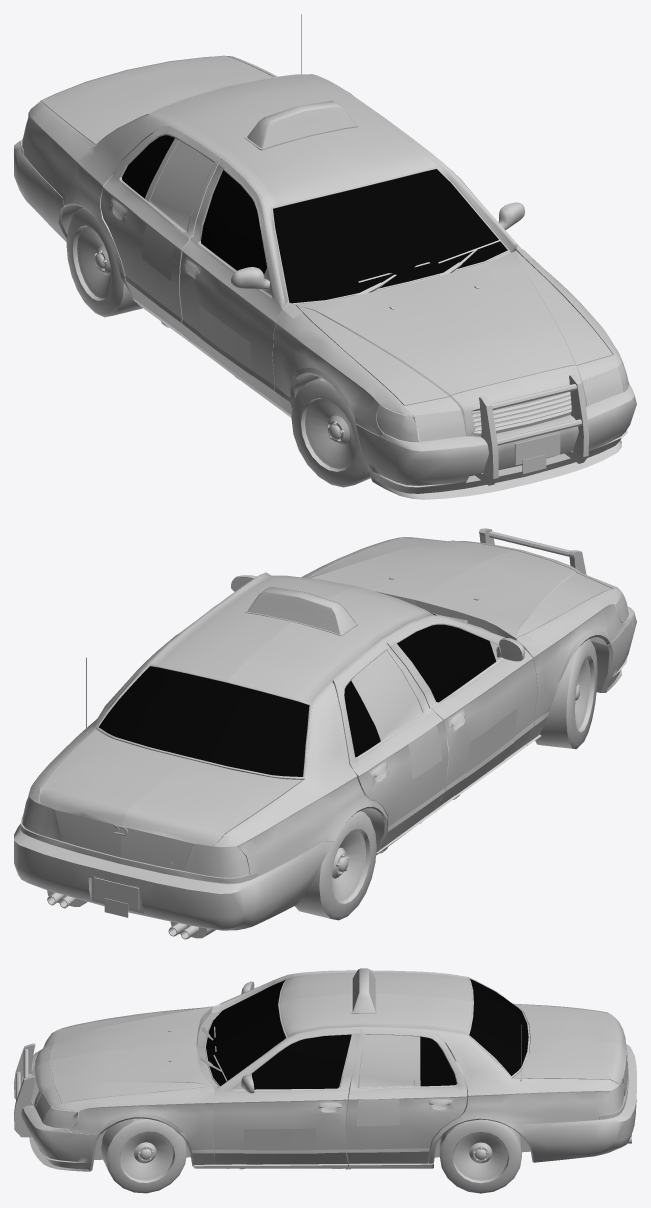
The model's file is taxi.dae.
3 views of the same model, one above another, from view 1: azimuth 30°, elevation 25°; view 2: azimuth 150°, elevation 25°; view 3: azimuth 270°, elevation 25° (orthographic). The views are drawn at different scales.
Parts seen in each view (by area): view 1: taxi_001; view 2: taxi_001; view 3: taxi_001.
Part boxes in pixels (x1,y1,x2,y2): taxi_001: (14, 14, 636, 499); taxi_001: (14, 528, 636, 939); taxi_001: (14, 968, 636, 1193).
Bounding box in the file's own units: 2.23 × 5.65 × 1.71.
